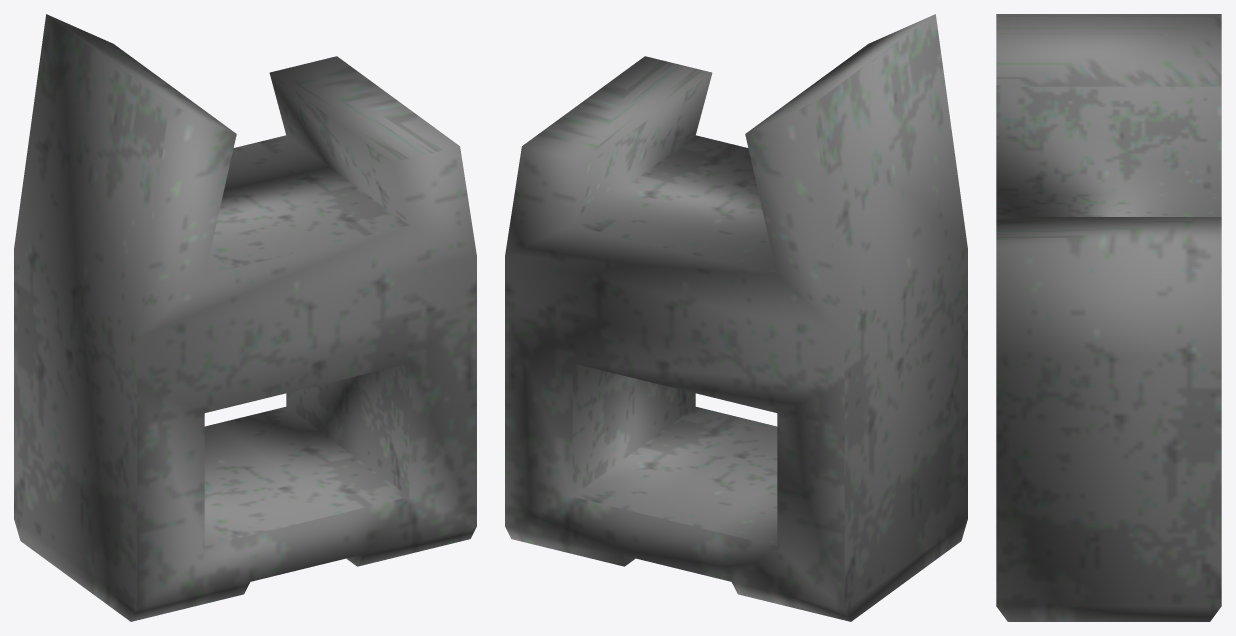
Rendered from wall_t.fbx.
The picture shows the model from 3 angles, left to right: view 1: azimuth 30°, elevation 25°; view 2: azimuth 150°, elevation 25°; view 3: azimuth 270°, elevation 25°; orthographic projection. The views are drawn at different scales.
Visible parts, largest first — view 1: Cinder_Block_2; view 2: Cinder_Block_2; view 3: Cinder_Block_2.
Part boxes in pixels (x1,y1,x2,y2): Cinder_Block_2: [14, 14, 476, 621]; Cinder_Block_2: [505, 14, 967, 621]; Cinder_Block_2: [996, 14, 1221, 621].
Bounding box in the file's own units: 77.63 × 112 × 48.75.
